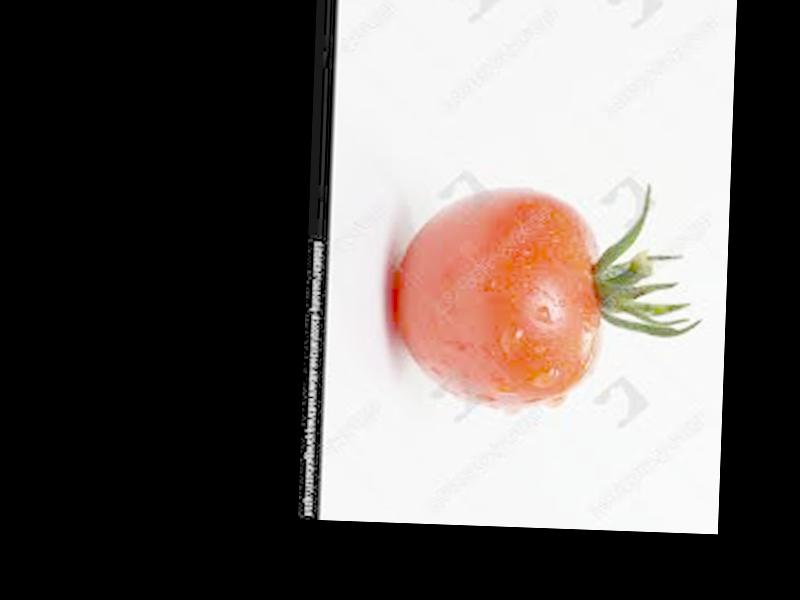Tomato: (391, 183, 602, 410)
